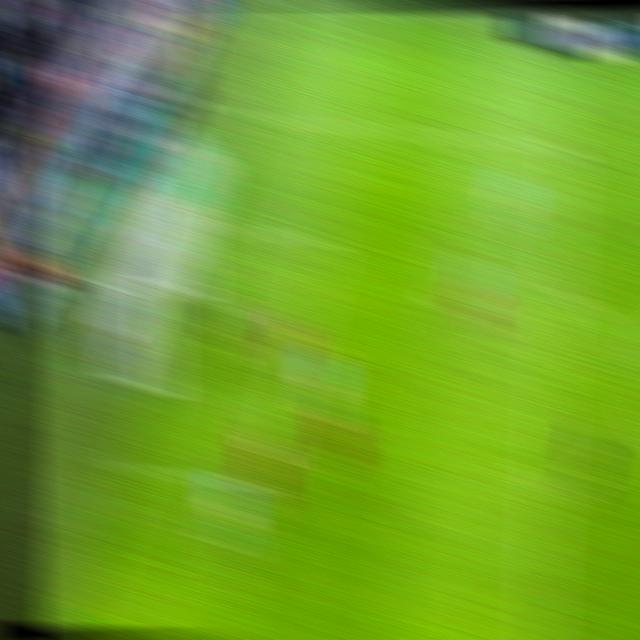bigarea_top_inner: (547, 133, 584, 165)
bigarea_top_outter: (236, 104, 271, 129)
bottom_arc_area_intersection: (530, 476, 564, 506)
corner: (274, 0, 315, 15)
smallarea_bottom_outter: (113, 455, 152, 483)
smallarea_top_inner: (306, 227, 343, 256)
smallarea_top_outter: (196, 214, 234, 243)
top_arc_area_intersection: (541, 274, 576, 303)
